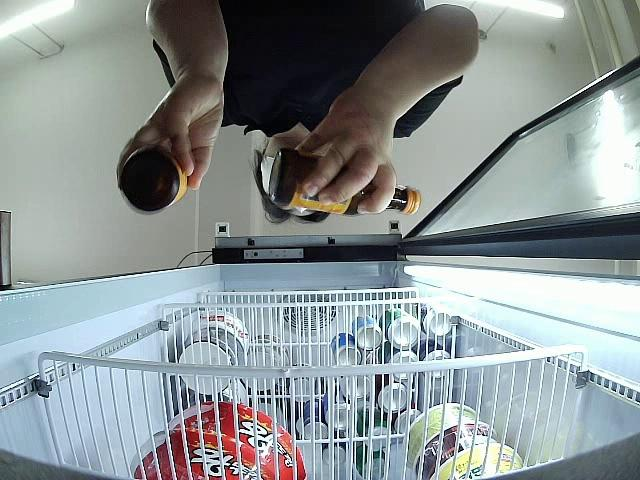00_hand: (117, 74, 225, 191), (295, 96, 397, 215)
17_vita500: (271, 148, 422, 219), (119, 149, 189, 215)
